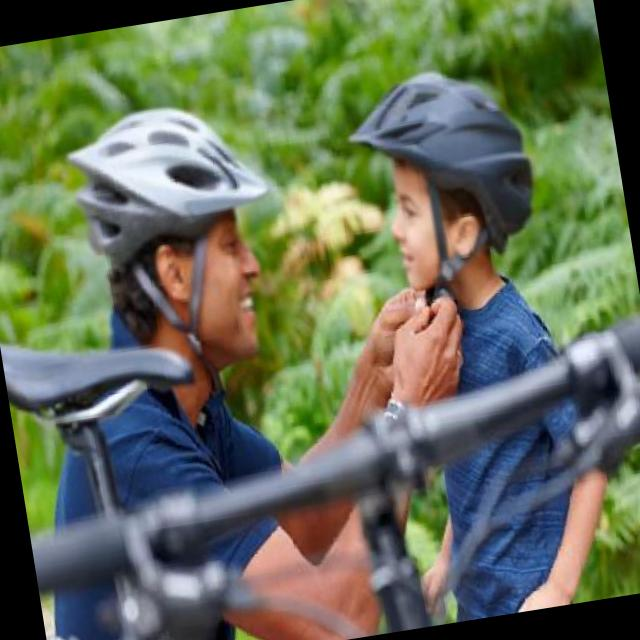With Helmet: (54, 76, 297, 384), (336, 51, 552, 296)
